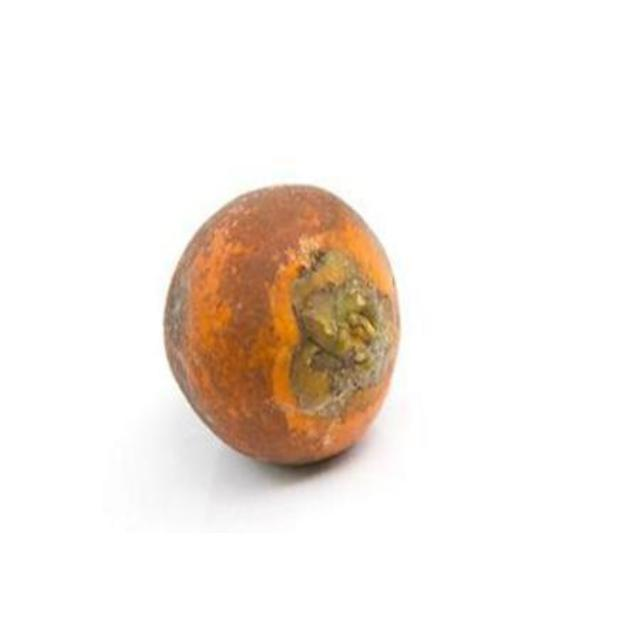damaged: (161, 185, 405, 468)
